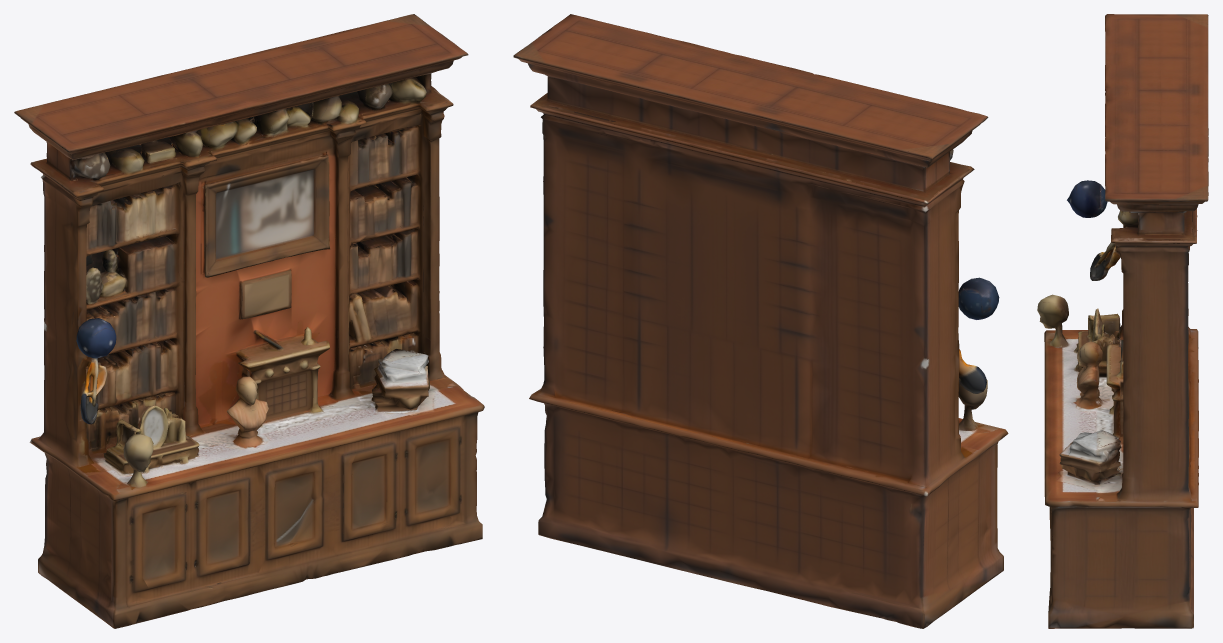
Rendered from Stephan_Office.fbx.
3 renders of one model, left to right at view 1: azimuth 30°, elevation 25°; view 2: azimuth 150°, elevation 25°; view 3: azimuth 270°, elevation 25°, orthographic. The views are drawn at different scales.
Parts seen in each view (by area): view 1: Stephan_Office; view 2: Stephan_Office; view 3: Stephan_Office.
Boxes of the visible parts, <box> form: Stephan_Office: <box>14,14,484,628</box>; Stephan_Office: <box>513,14,1008,628</box>; Stephan_Office: <box>1037,14,1208,628</box>.
Bounding box in the file's own units: 174 × 191 × 67.84.
Materials: 1 (1 with a texture image).
